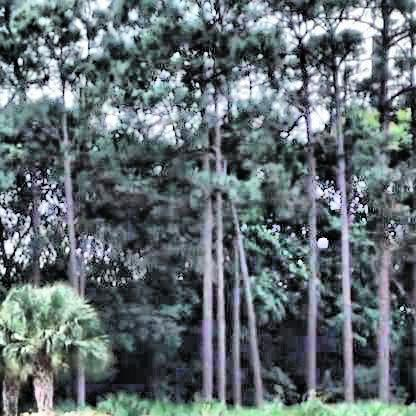golfball: (314, 236, 325, 246)
